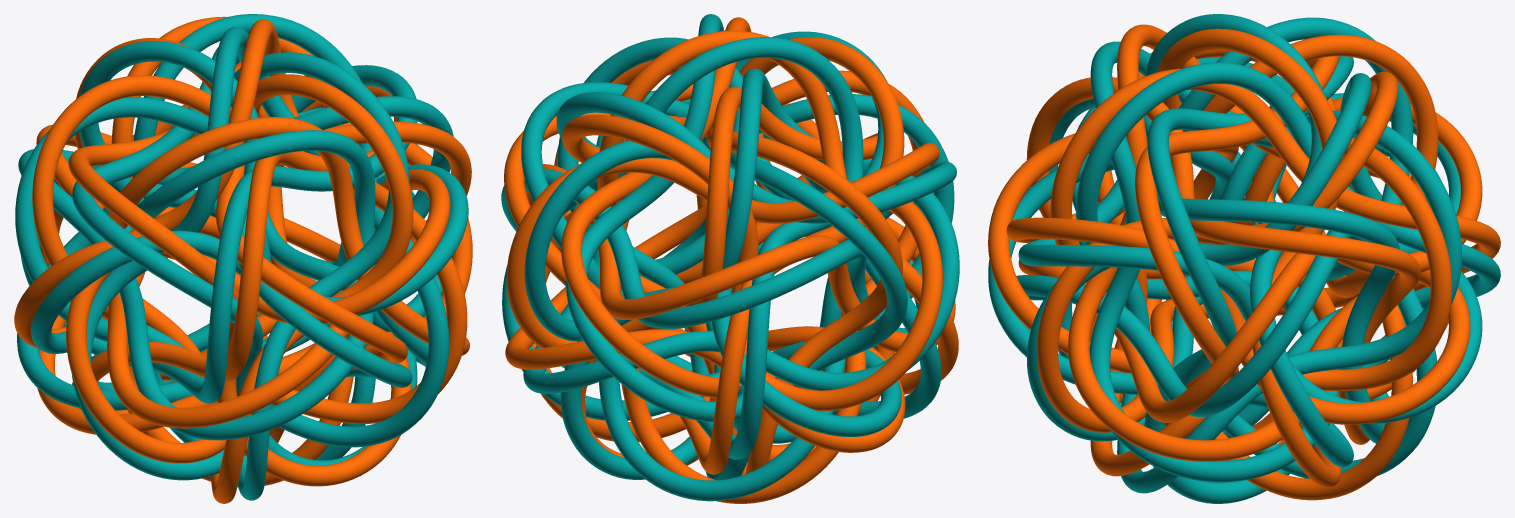
File: hantavirus.glb
3 renders of one model, left to right at view 1: azimuth 30°, elevation 25°; view 2: azimuth 150°, elevation 25°; view 3: azimuth 270°, elevation 25°, orthographic. The views are drawn at different scales.
Parts seen in each view (by area): view 1: Polylink_2; view 2: Polylink_2; view 3: Polylink_2.
Part boxes in pixels (<box>): Polylink_2: <box>14,14,472,503</box>; Polylink_2: <box>501,14,959,503</box>; Polylink_2: <box>988,14,1500,503</box>.
Size of the model in its own units: 7.98 by 7.99 by 7.99.
